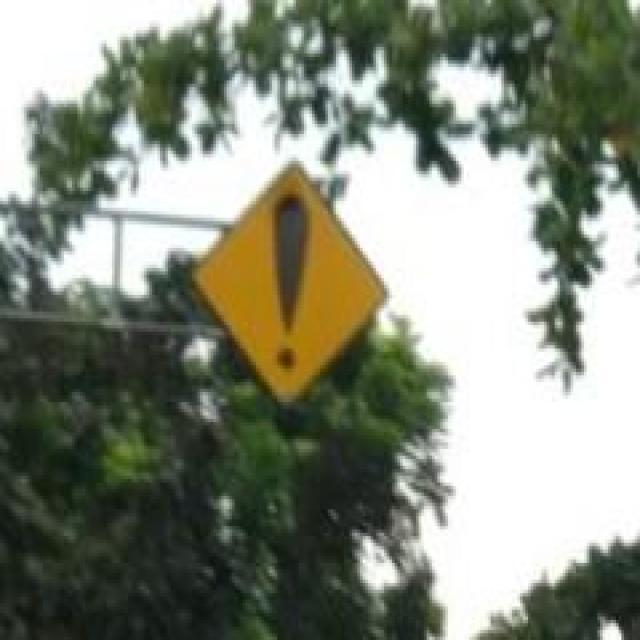traffic sign: (195, 161, 390, 406)
